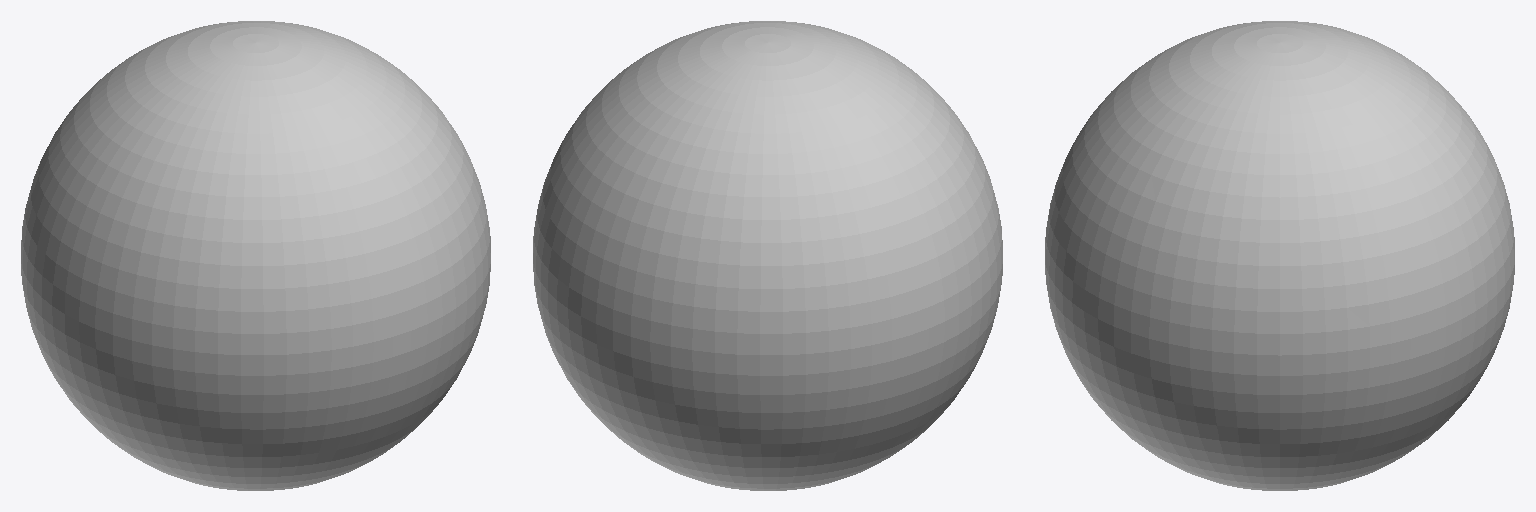
The model's file is Nucleus.obj.
The picture shows the model from 3 angles: view 1: azimuth 30°, elevation 25°; view 2: azimuth 150°, elevation 25°; view 3: azimuth 270°, elevation 25°; orthographic projection.
Visible parts, largest first — view 1: default; view 2: default; view 3: default.
Part boxes in pixels (bbox=[...]): default: bbox=[21, 21, 490, 490]; default: bbox=[533, 21, 1002, 490]; default: bbox=[1045, 21, 1514, 490].
Size of the model in its own units: 1.03 by 1.03 by 1.03.